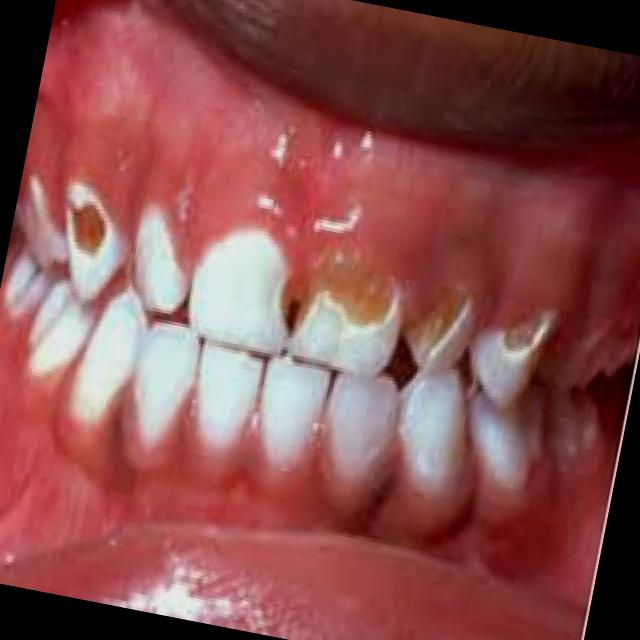caries: (277, 238, 403, 346), (394, 284, 470, 382), (56, 190, 112, 274)
